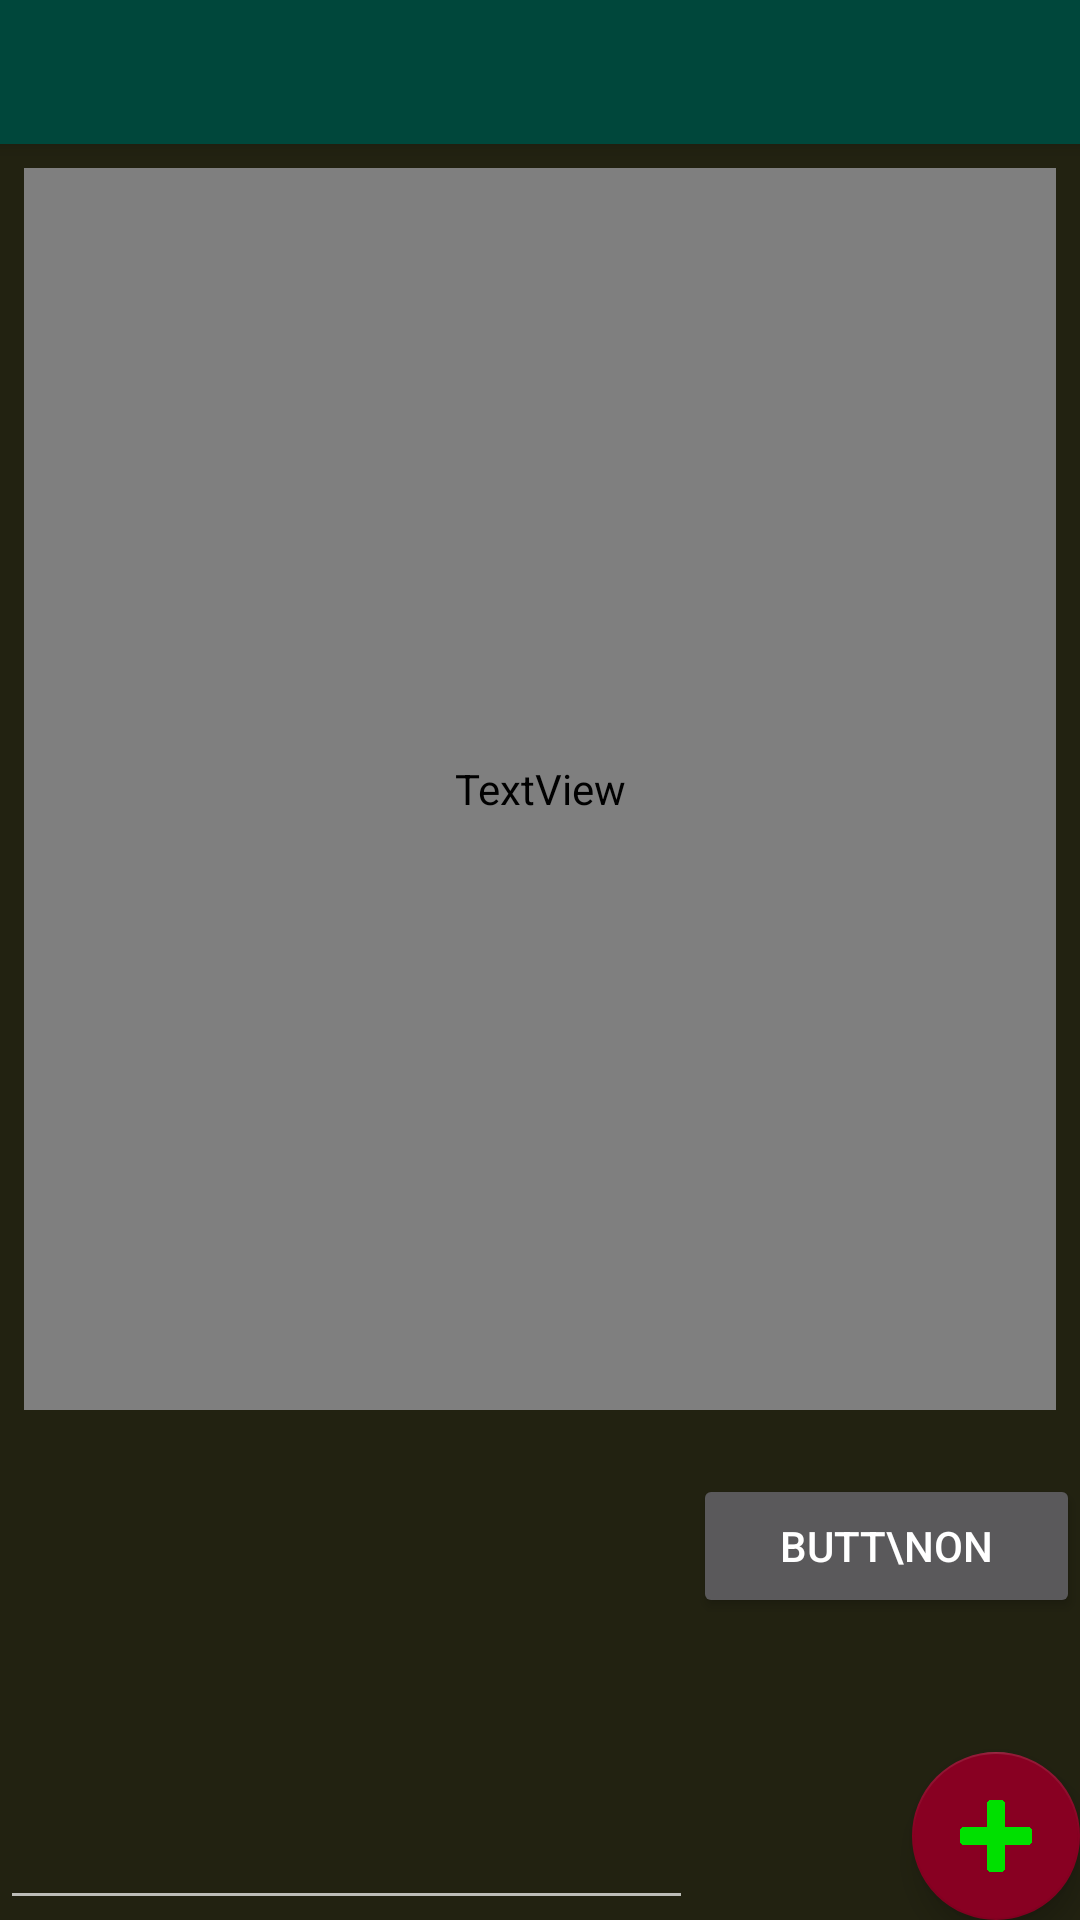

Where to tap for icons on this 1080 x 1920 app screen, as point (x, y):
add circle: point (996, 1836)
